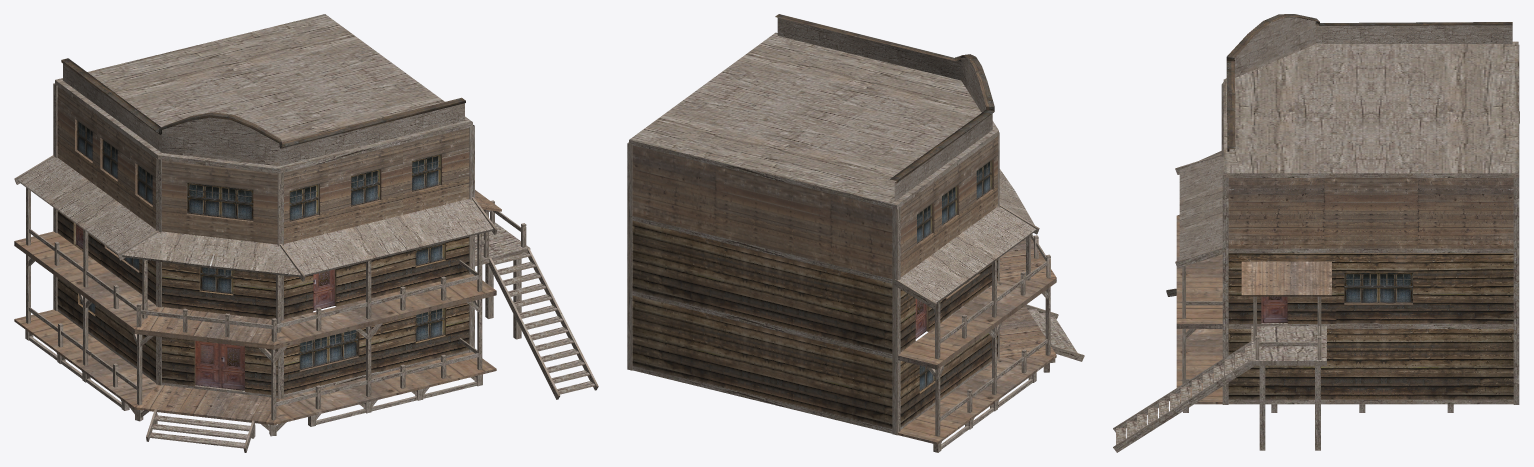
File: Bar.fbx
The picture shows the model from 3 angles, left to right: view 1: azimuth 30°, elevation 25°; view 2: azimuth 150°, elevation 25°; view 3: azimuth 270°, elevation 25°; orthographic projection.
Parts seen in each view (by area): view 1: node_id127, node_id119, node_id295, node_id11, node_id117, node_id121, node_id125, node_id103, node_id97, node_id39, node_id107, node_id123 (+27 smaller); view 2: node_id127, node_id137, node_id171, node_id131, node_id295, node_id11, node_id119, node_id125, node_id113, node_id111, node_id87, node_id277 (+10 smaller); view 3: node_id127, node_id169, node_id129, node_id135, node_id295, node_id133, node_id121, node_id187, node_id119, node_id167, node_id11, node_id105 (+8 smaller).
Part boxes in pixels (x1,y1,x2,y2): node_id127: [55, 14, 472, 173]; node_id119: [14, 231, 496, 349]; node_id295: [61, 58, 465, 166]; node_id11: [14, 309, 496, 425]; node_id117: [162, 160, 277, 244]; node_id121: [283, 199, 493, 276]; node_id125: [17, 156, 155, 254]; node_id103: [328, 144, 402, 232]; node_id97: [162, 262, 275, 319]; node_id39: [162, 337, 277, 395]; node_id107: [403, 128, 469, 214]; node_id123: [121, 231, 300, 277]; node_id127: [629, 32, 998, 209]; node_id137: [632, 220, 892, 353]; node_id171: [632, 145, 892, 278]; node_id131: [632, 295, 892, 428]; node_id295: [775, 14, 994, 201]; node_id11: [898, 306, 1056, 444]; node_id119: [898, 238, 1056, 369]; node_id125: [899, 206, 1036, 303]; node_id113: [900, 180, 938, 276]; node_id111: [938, 156, 971, 249]; node_id87: [900, 353, 960, 426]; node_id277: [892, 207, 900, 435]; node_id127: [1223, 41, 1518, 177]; node_id169: [1228, 178, 1513, 248]; node_id129: [1228, 329, 1513, 399]; node_id135: [1336, 253, 1513, 323]; node_id295: [1226, 14, 1512, 151]; node_id133: [1228, 253, 1336, 323]; node_id121: [1179, 156, 1223, 259]; node_id187: [1241, 261, 1331, 296]; node_id119: [1176, 214, 1222, 328]; node_id167: [1251, 326, 1326, 365]; node_id11: [1176, 329, 1222, 404]; node_id105: [1228, 248, 1513, 253].
Size of the model in its own units: 0.512 by 0.3665 by 0.4627.
158 materials, 158 textured.
